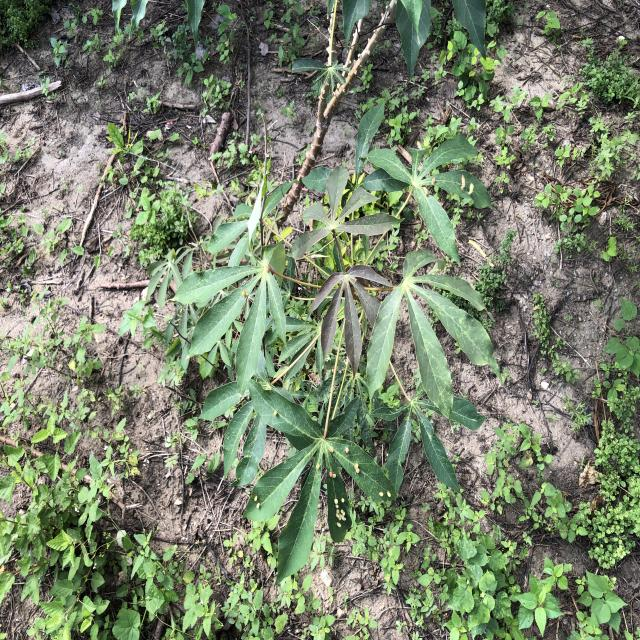Maleza: (3, 402, 182, 631), (428, 505, 640, 640), (491, 76, 640, 247)
Mosca: (453, 171, 481, 201), (412, 177, 445, 199), (332, 494, 350, 533), (249, 488, 268, 512), (376, 488, 396, 507), (352, 459, 365, 478), (234, 283, 251, 297), (342, 440, 355, 456), (311, 495, 321, 514), (322, 442, 336, 455), (268, 405, 283, 417), (326, 468, 341, 480), (312, 460, 322, 473)
